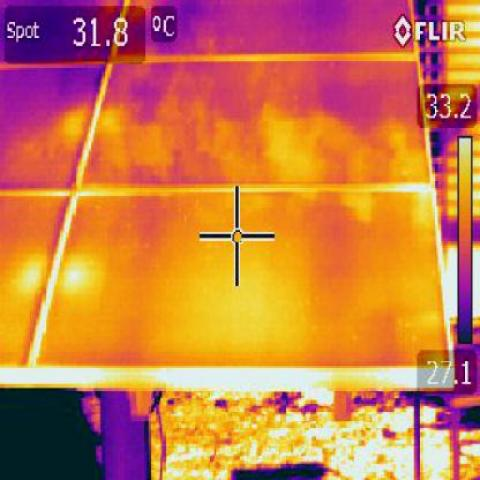fault: (54, 255, 101, 294), (12, 255, 44, 293)
